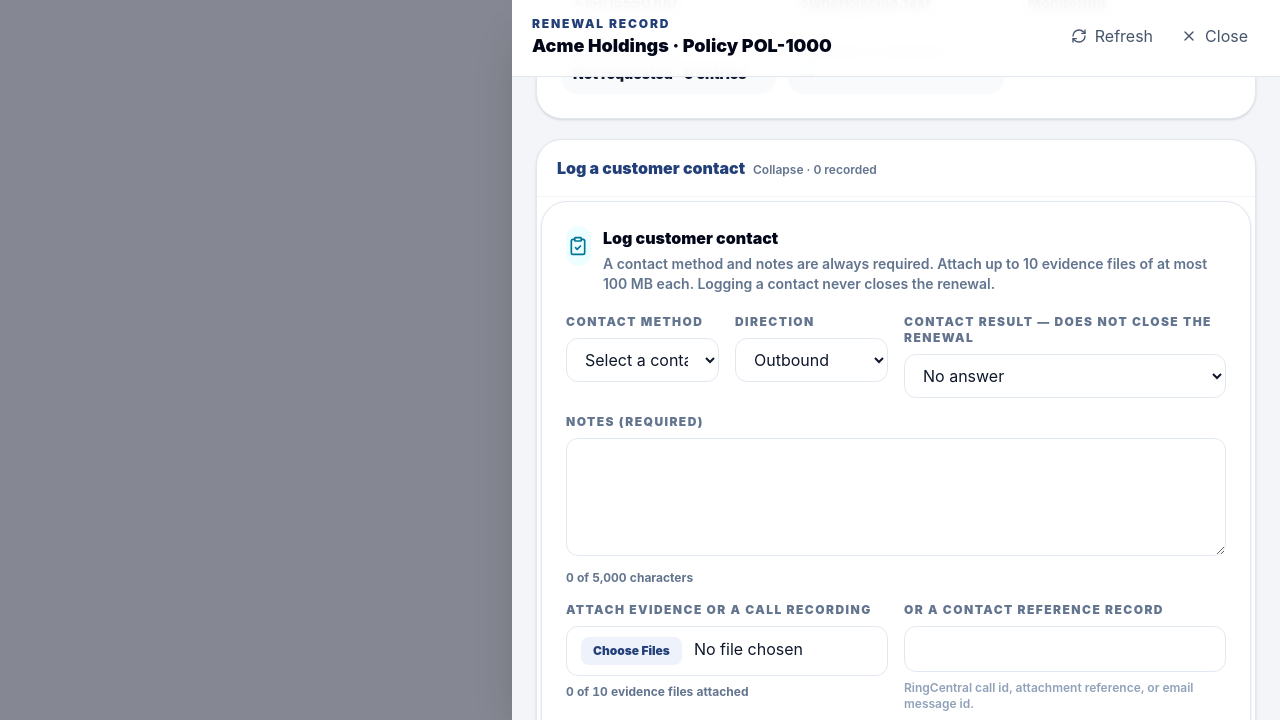
Test: renewal contact logging (Req 5.5) › displays the stored entry as the most recent timeline entry without closing the drawer
(page scrolled)
Select "Call" in the dropdown labelled "Contact method" at (642, 360), box [566, 338, 719, 382]
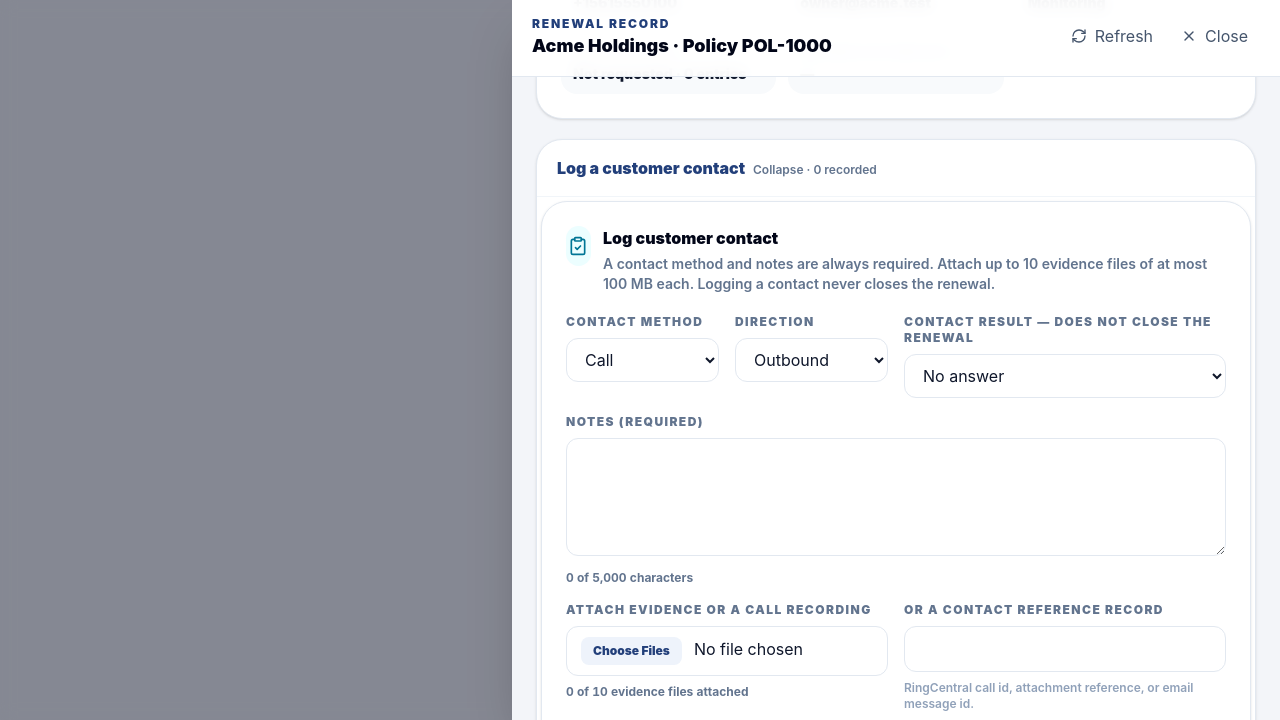
Type "First contact completed with the insured." into the text box labelled "Notes (required)" at (896, 496), box [566, 438, 1226, 556]
(page scrolled)
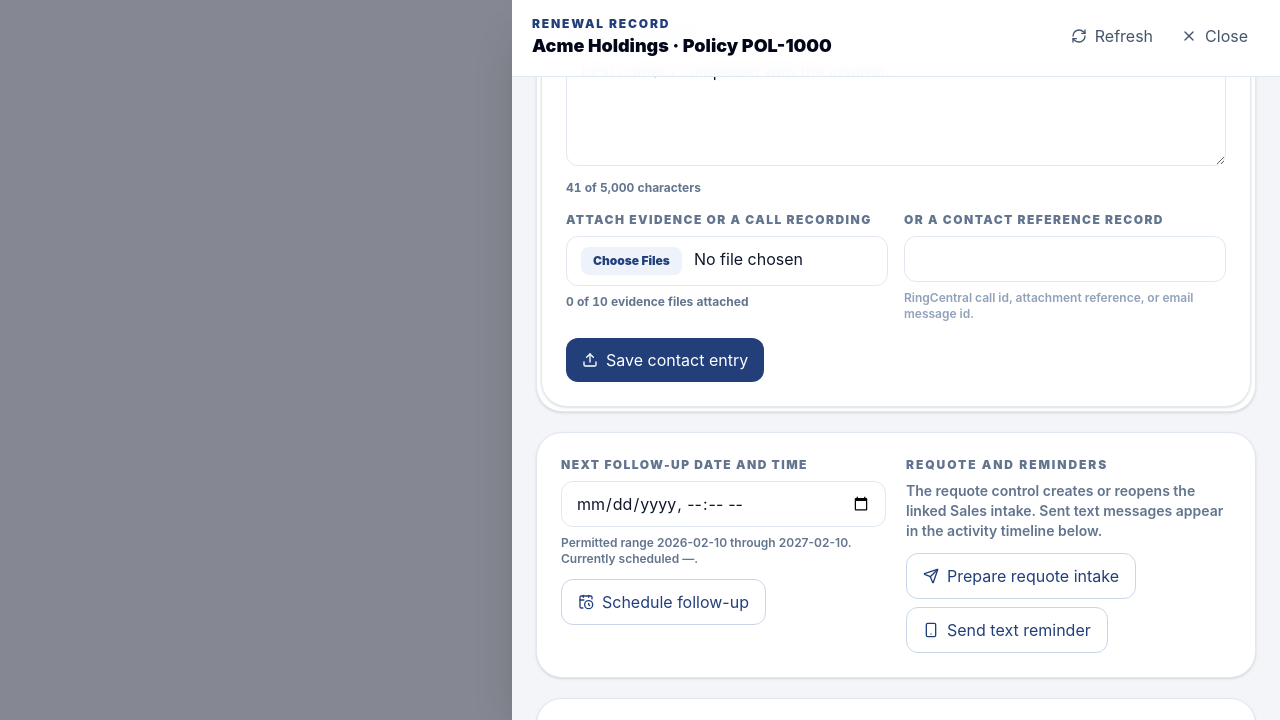
Click the button "Save contact entry" at (665, 360), box [566, 338, 764, 382]
(page scrolled)
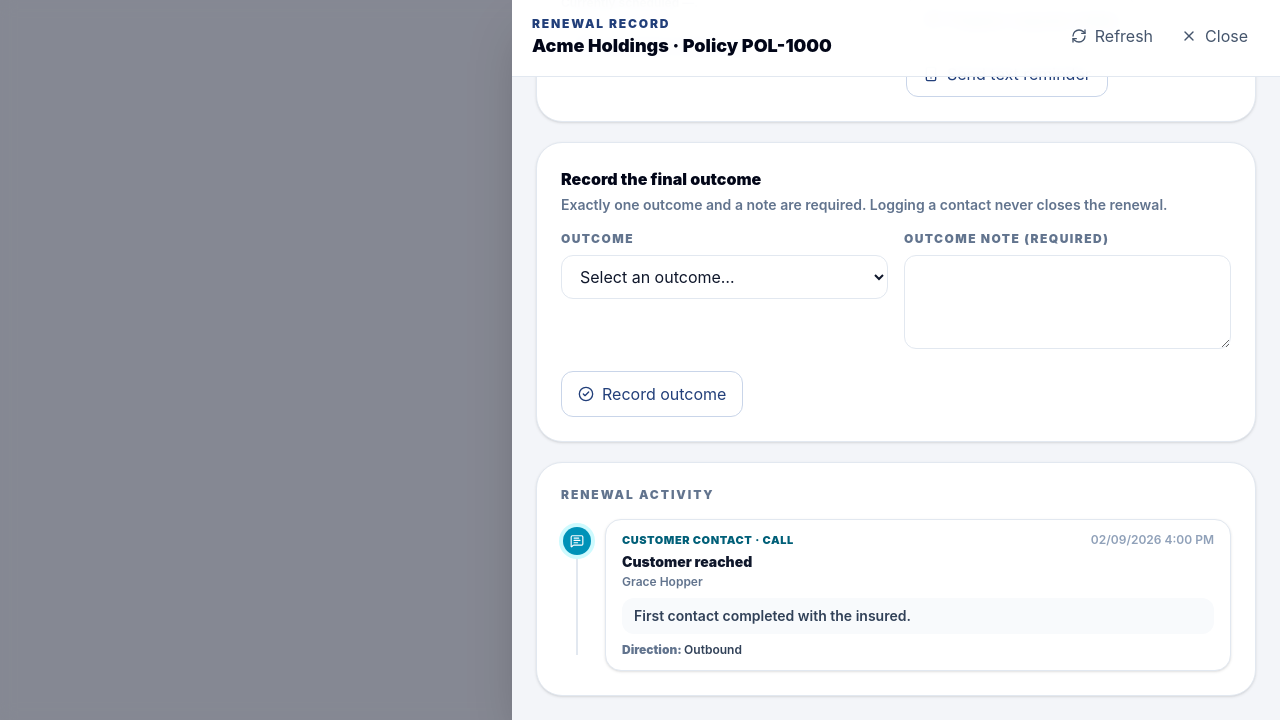
Now the number of list items is 1, box [561, 518, 1231, 671]
Now the list item shows "Customer contact", box [622, 532, 752, 546]
Now the list item shows "First contact completed with the insured.", box [634, 607, 911, 624]
